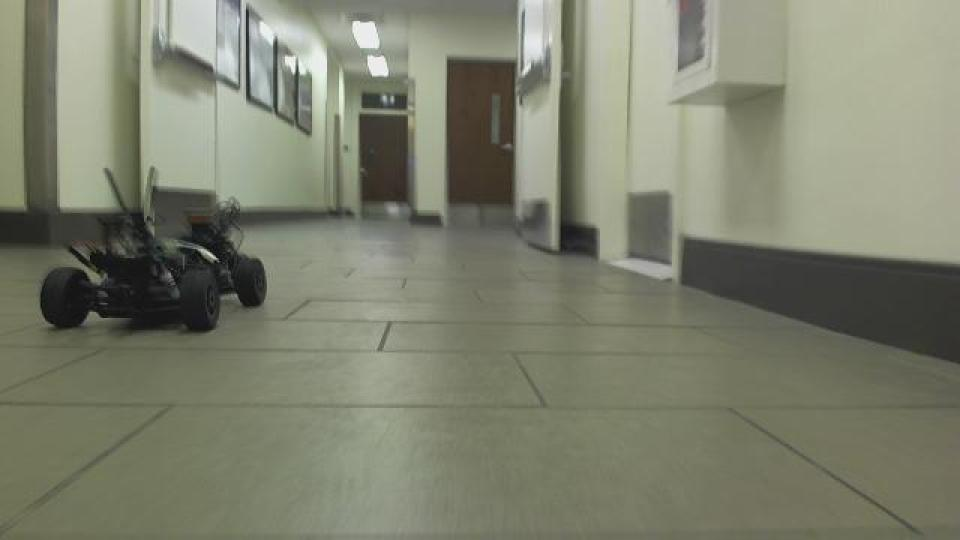car: (36, 162, 268, 334)
